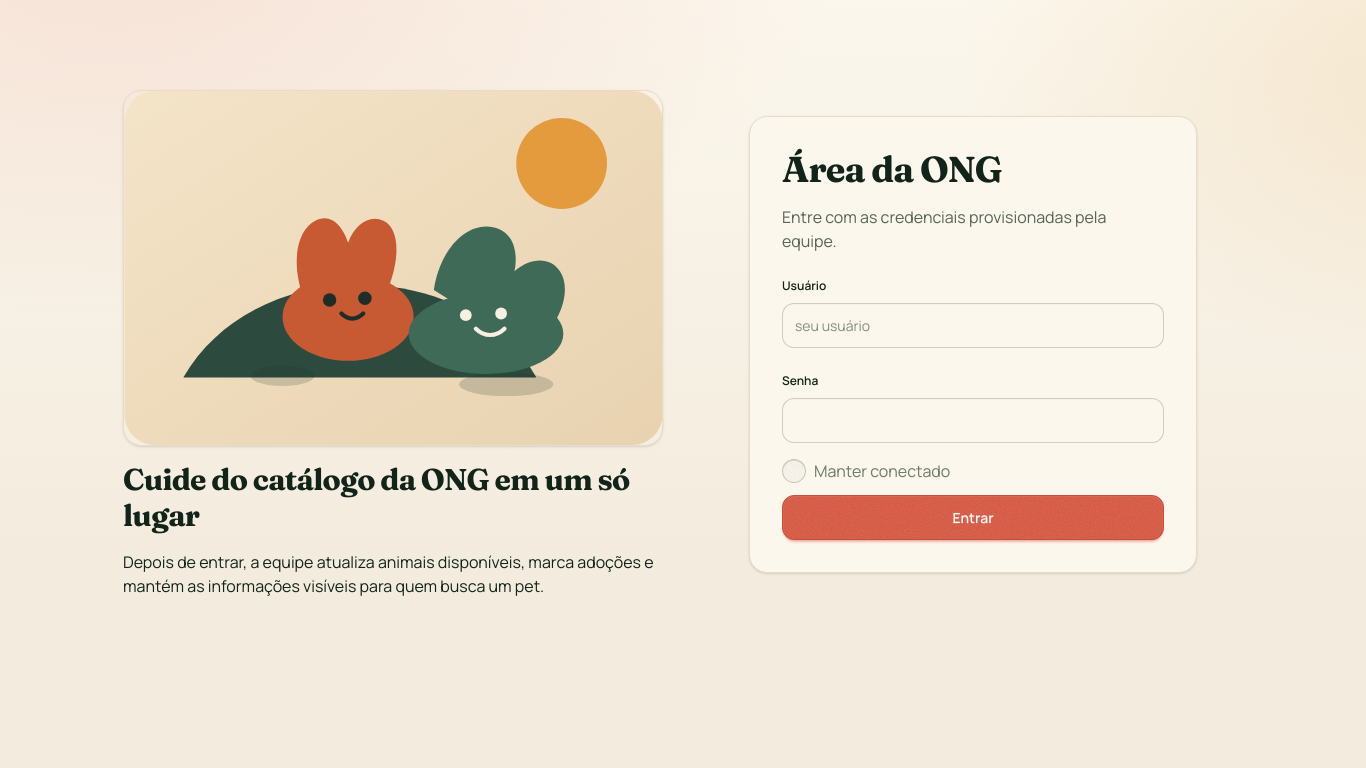
Test case: LoginPage › shows a network alert and stays on login
Type "admin" into the field named "username" at (973, 325), box [782,302,1164,348]
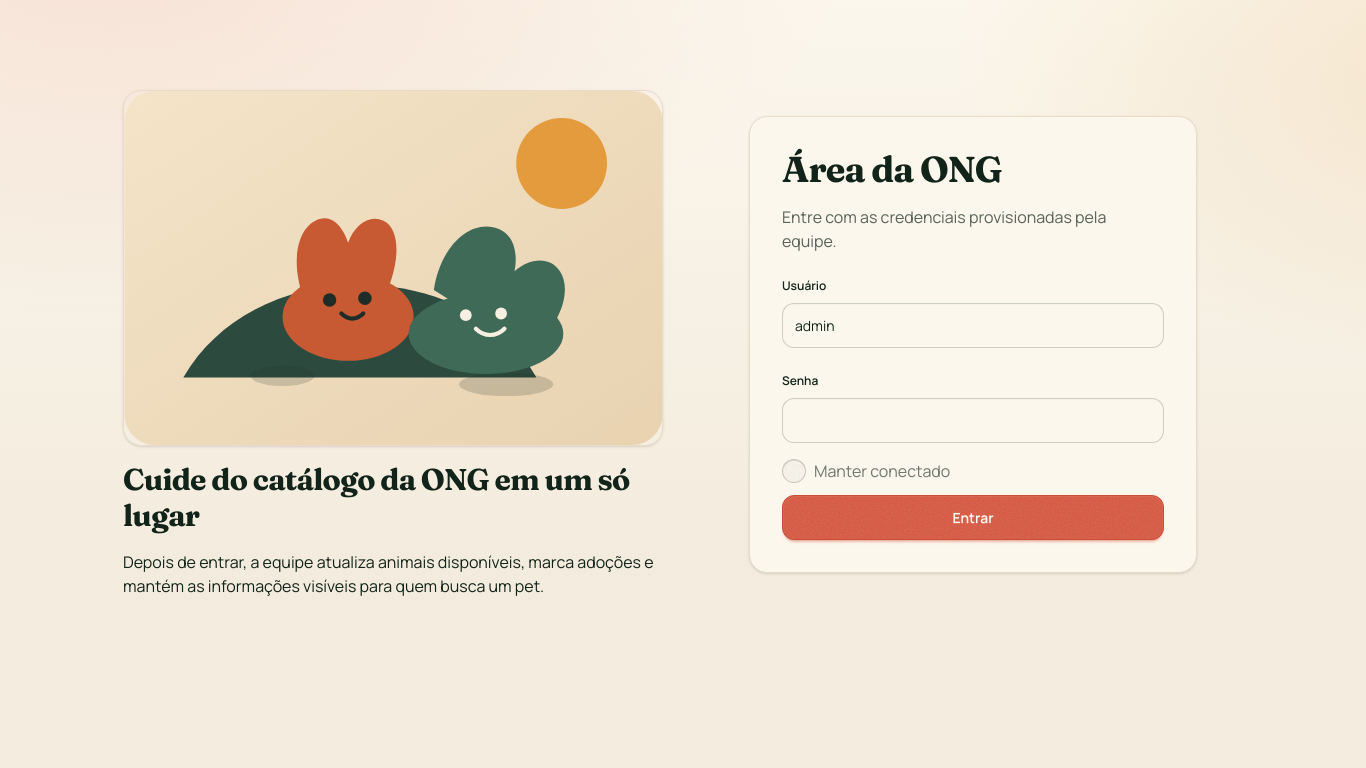
Type "secret" into the password field named "password" at (952, 420), box [795,398,1109,442]
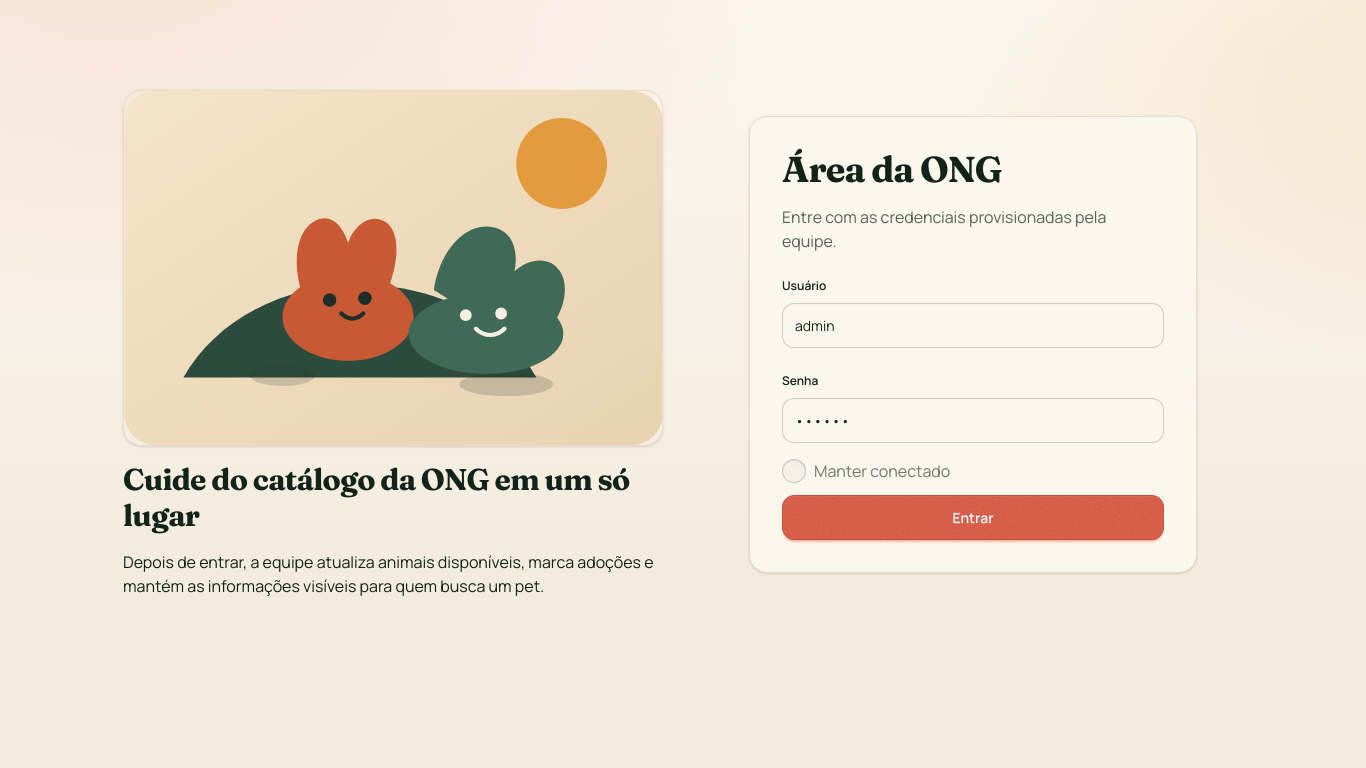
Submit the form, box [782,268,1164,540]
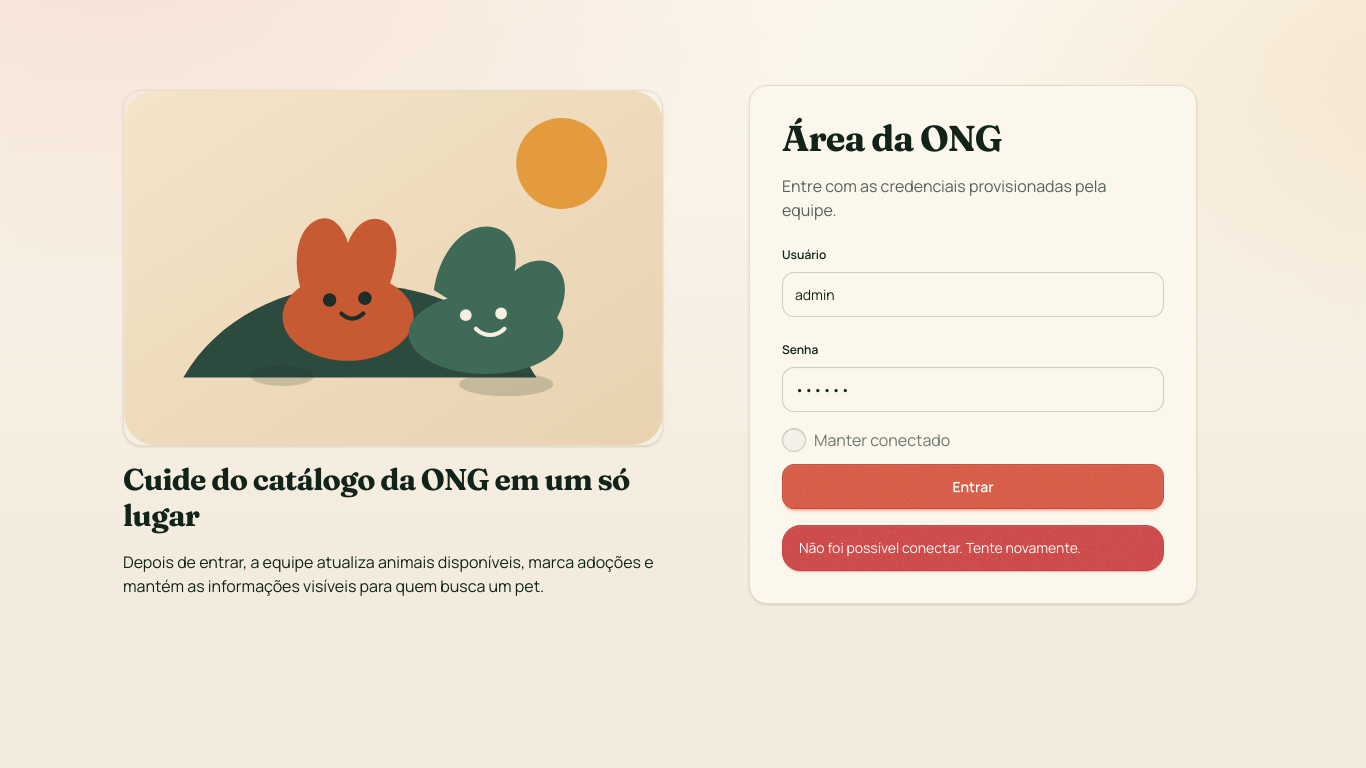
Check: the message "Não foi possível conectar. Tente novamente." is shown, box [782,524,1164,570]
